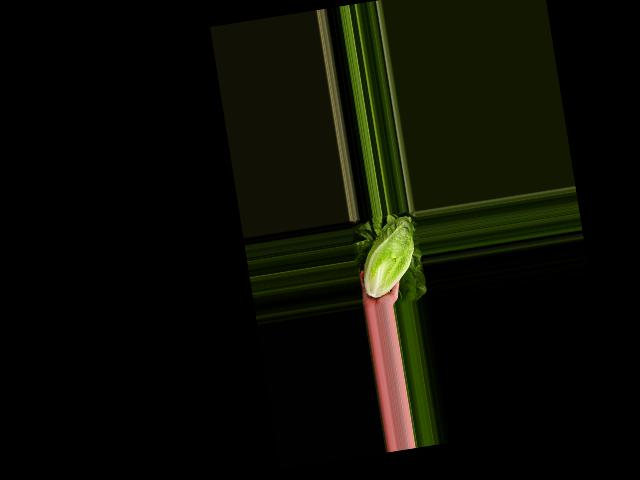lettuce: (352, 214, 423, 300)
